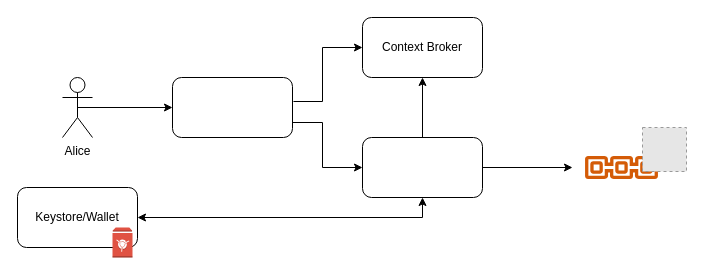
The diagram is 704 pixels wide and 275 high, and some of its shapes have lost their labels. Grey dashed boxes stand in for pictures. Each missing label, with the box of its shape:
Canis Major: (362, 136, 482, 198)
Client-Application: (172, 76, 292, 138)
